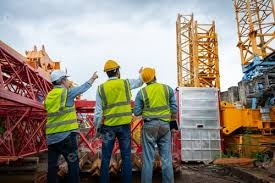hardhat: (138, 67, 166, 81), (101, 59, 119, 75), (46, 70, 66, 81)
person: (35, 68, 86, 169), (97, 57, 137, 179), (135, 63, 176, 180)
safety_vest: (42, 87, 83, 136), (99, 80, 129, 125), (140, 84, 170, 125)
